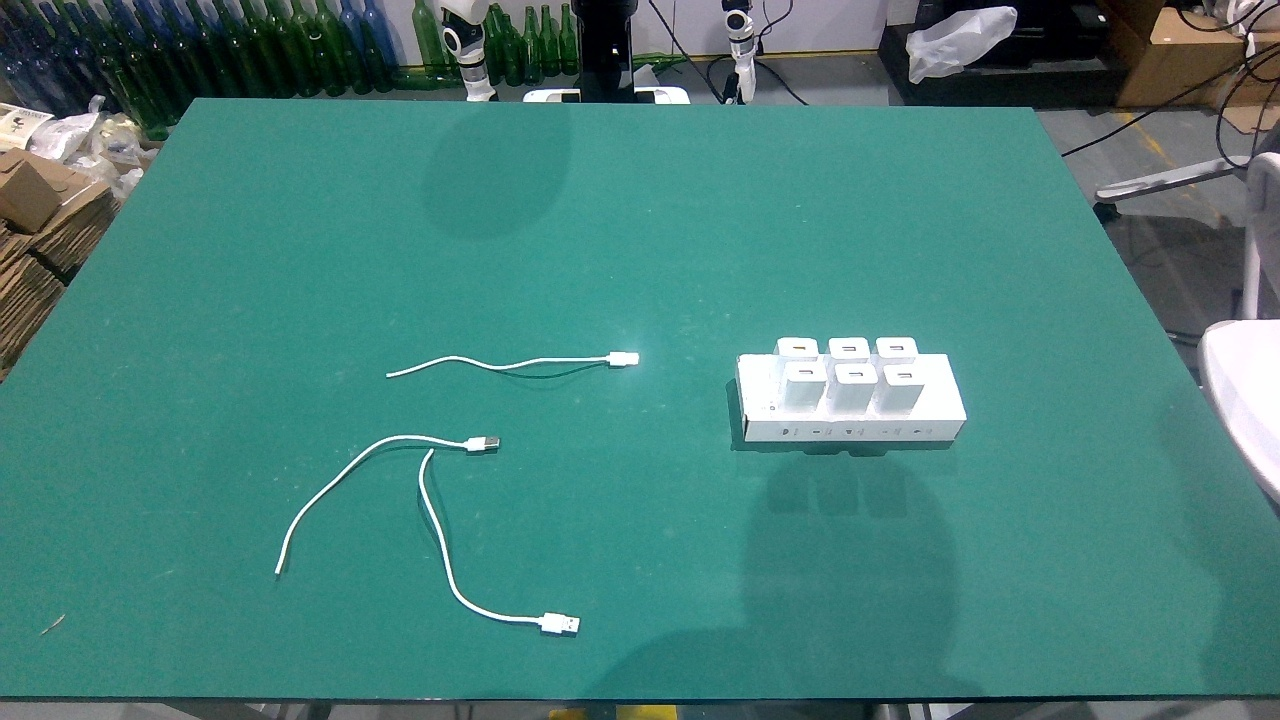usb_a_plug: (520, 610, 580, 634), (452, 437, 500, 452), (591, 352, 640, 366)
